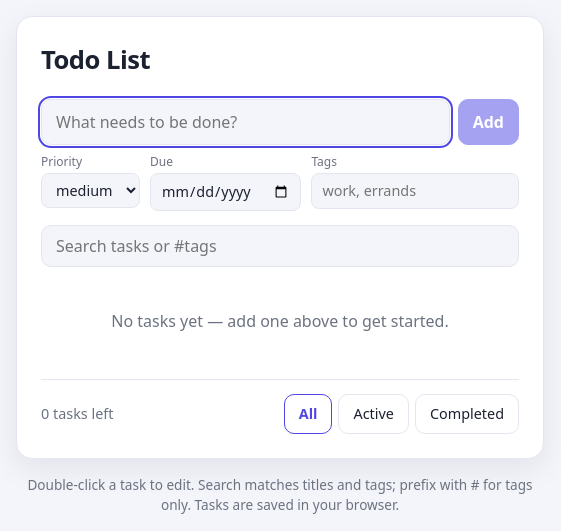
Test: completing, editing and deleting › marks a task complete and hides it under the Active filter
Type "Ship it" into the field named "New task" at (245, 122), box x1=41 y1=99 x2=450 y2=145
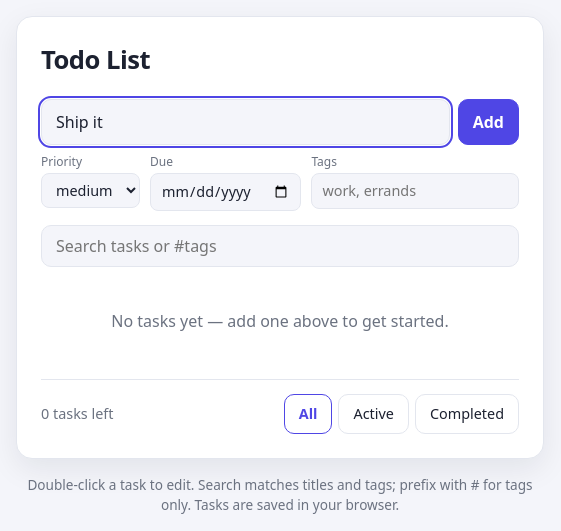
Press Enter
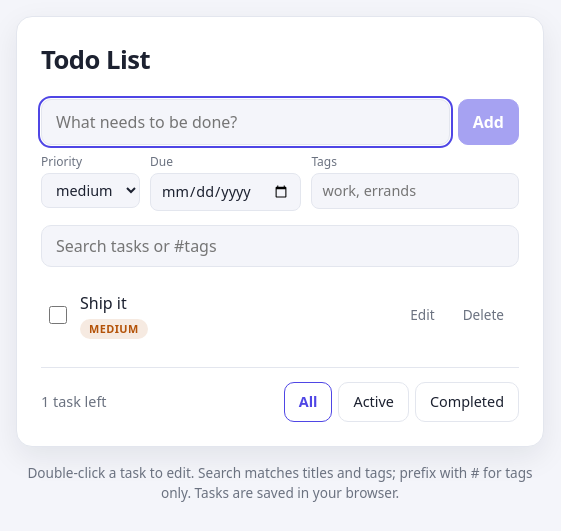
Click the checkbox named "Mark \"Ship it\" as complete" at (58, 315), box x1=49 y1=306 x2=67 y2=324
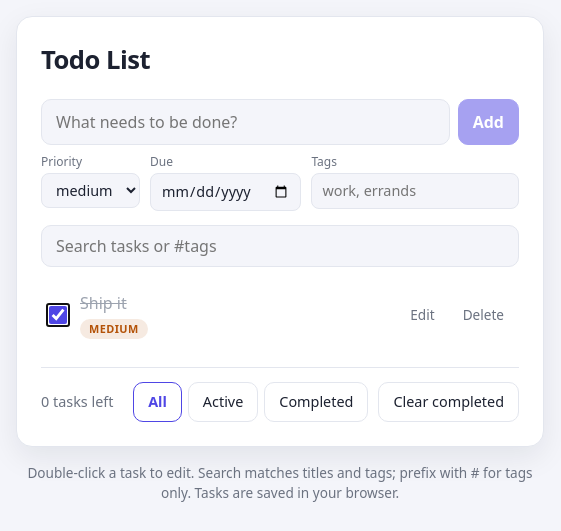
Click the button "Active" at (223, 402), box x1=188 y1=382 x2=258 y2=422
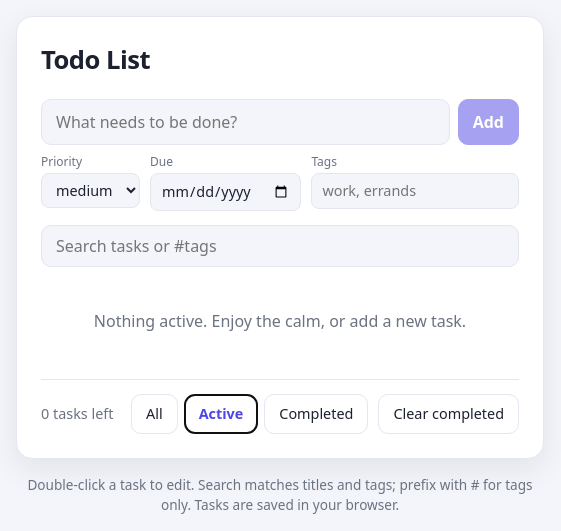
Expected: the text "Ship it" is gone
Expected: the text "Nothing active. Enjoy the calm, or add a new task." is shown, x1=94 y1=310 x2=466 y2=332
Click the button "Completed" at (316, 414), box x1=264 y1=394 x2=368 y2=434
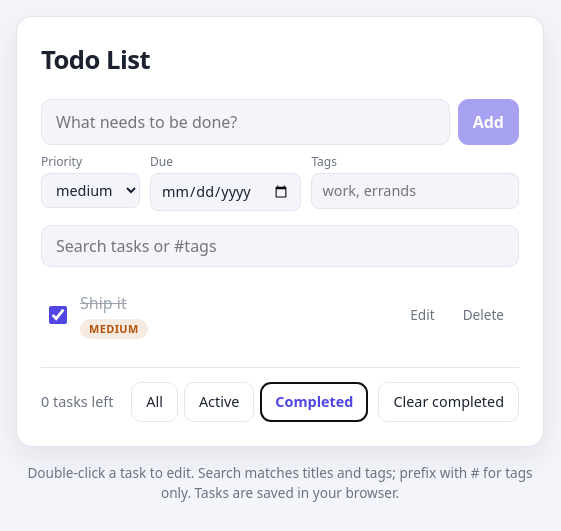
Expected: the text "Ship it" is shown, x1=80 y1=292 x2=127 y2=314
